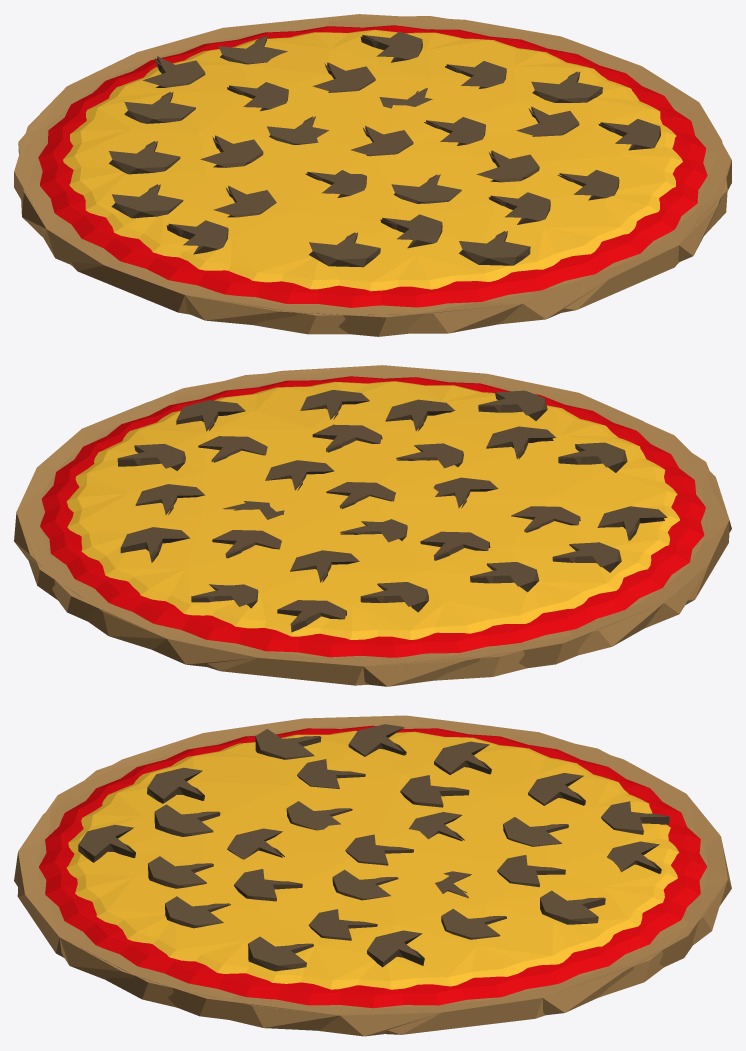
The model's file is modelo3.glb.
3 renders of one model, top to bottom at view 1: azimuth 30°, elevation 25°; view 2: azimuth 150°, elevation 25°; view 3: azimuth 270°, elevation 25°, orthographic.
Parts seen in each view (by area): view 1: pizza_champis_cocinada; view 2: pizza_champis_cocinada; view 3: pizza_champis_cocinada.
Boxes of the visible parts, x1=… form: pizza_champis_cocinada: x1=14, y1=14, x2=731, y2=336; pizza_champis_cocinada: x1=14, y1=365, x2=731, y2=686; pizza_champis_cocinada: x1=14, y1=715, x2=731, y2=1036.
Bounding box in the file's own units: 2.02 × 0.132 × 2.02.
